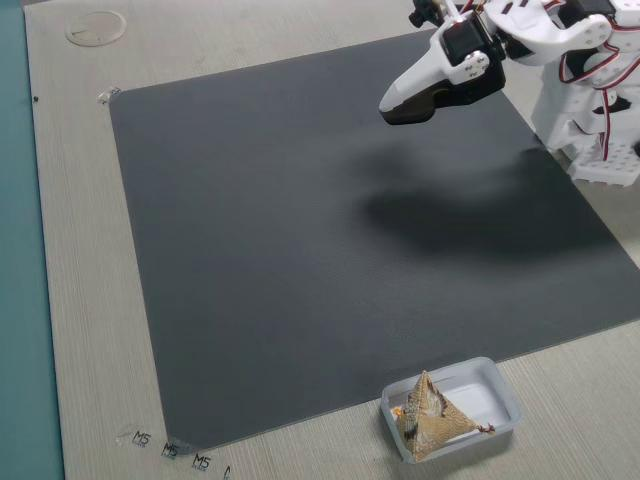gripper: (374, 4, 497, 127)
